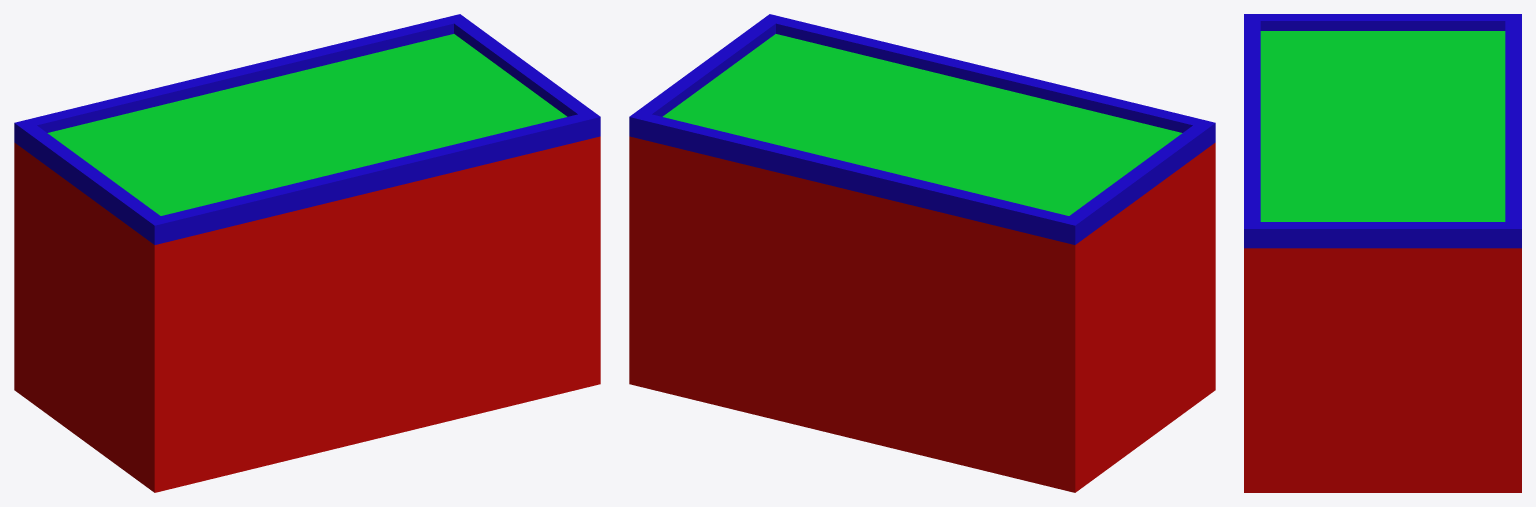
The model's file is Building5.fbx.
The picture shows the model from 3 angles, left to right: view 1: azimuth 30°, elevation 25°; view 2: azimuth 150°, elevation 25°; view 3: azimuth 270°, elevation 25°; orthographic projection.
Visible parts, largest first — view 1: Cube.004; view 2: Cube.004; view 3: Cube.004.
Boxes of the visible parts, x1,y1,x2,y2 form: Cube.004: (14, 14, 600, 492); Cube.004: (629, 14, 1215, 492); Cube.004: (1244, 14, 1521, 492).
Size of the model in its own units: 1589 by 910 by 868.
